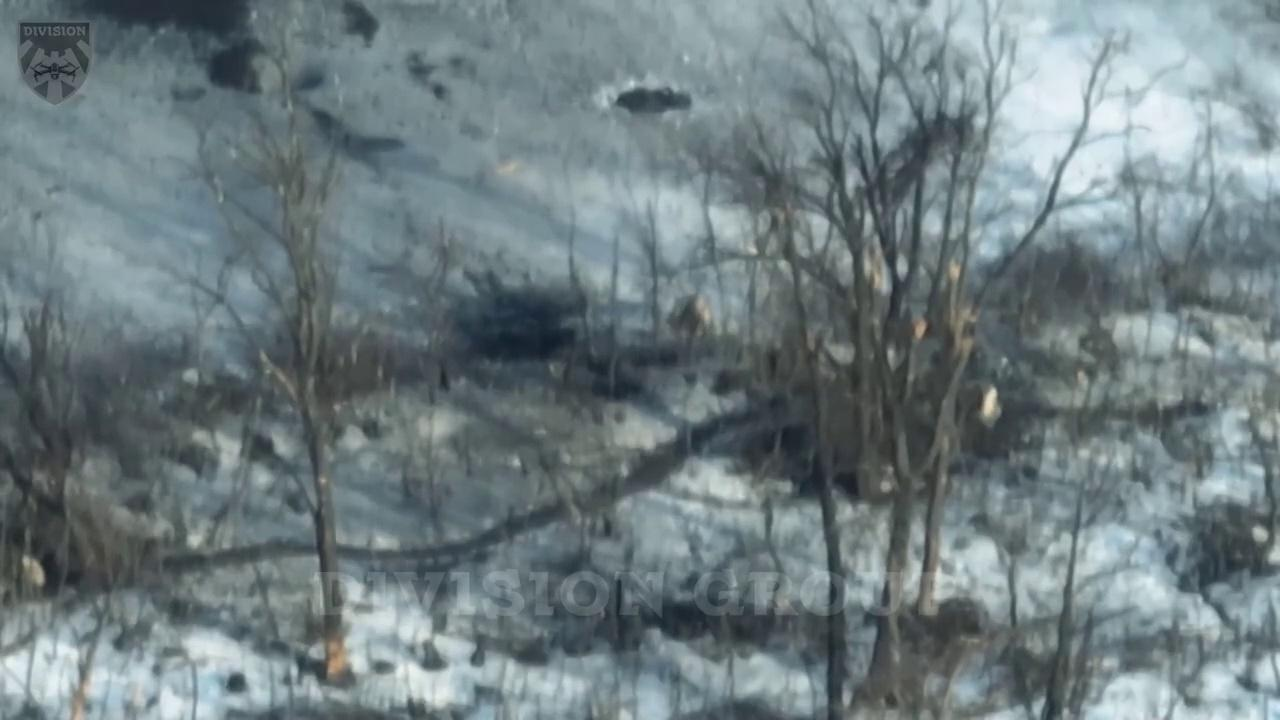person: (680, 294, 710, 340)
